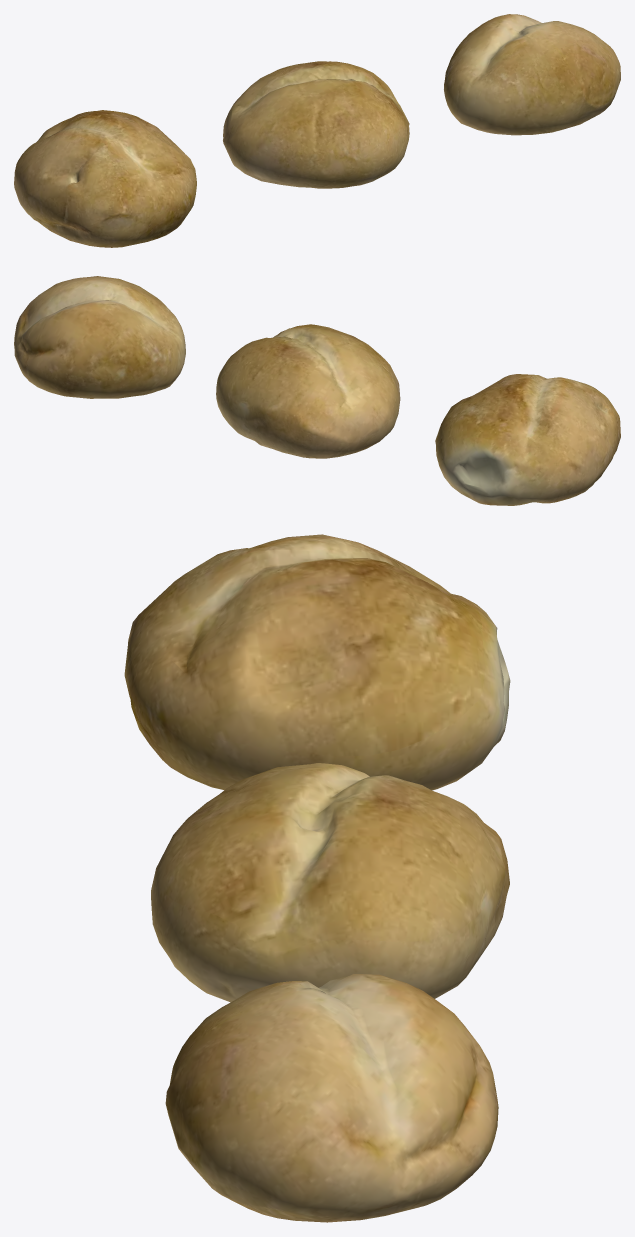
The model's file is hamburger_buns.glb.
3 views of the same model, one above another, from view 1: azimuth 30°, elevation 25°; view 2: azimuth 150°, elevation 25°; view 3: azimuth 270°, elevation 25° (orthographic). The views are drawn at different scales.
Visible parts, largest first — view 1: hamburger_buns_01, hamburger_buns_02, hamburger_buns_03; view 2: hamburger_buns_01, hamburger_buns_02, hamburger_buns_03; view 3: hamburger_buns_01, hamburger_buns_02, hamburger_buns_03.
Boxes of the visible parts, box(x1,y1,x2,y2) form: hamburger_buns_01: box(14, 110, 196, 247); hamburger_buns_02: box(223, 61, 409, 188); hamburger_buns_03: box(444, 14, 620, 135); hamburger_buns_01: box(435, 374, 620, 505); hamburger_buns_02: box(216, 324, 400, 458); hamburger_buns_03: box(14, 276, 185, 398); hamburger_buns_01: box(124, 534, 510, 790); hamburger_buns_02: box(151, 763, 509, 1002); hamburger_buns_03: box(165, 974, 498, 1222).
Bounding box in the file's own units: 0.3972 × 0.0634 × 0.1138.
Materials: 1 (1 with a texture image).
